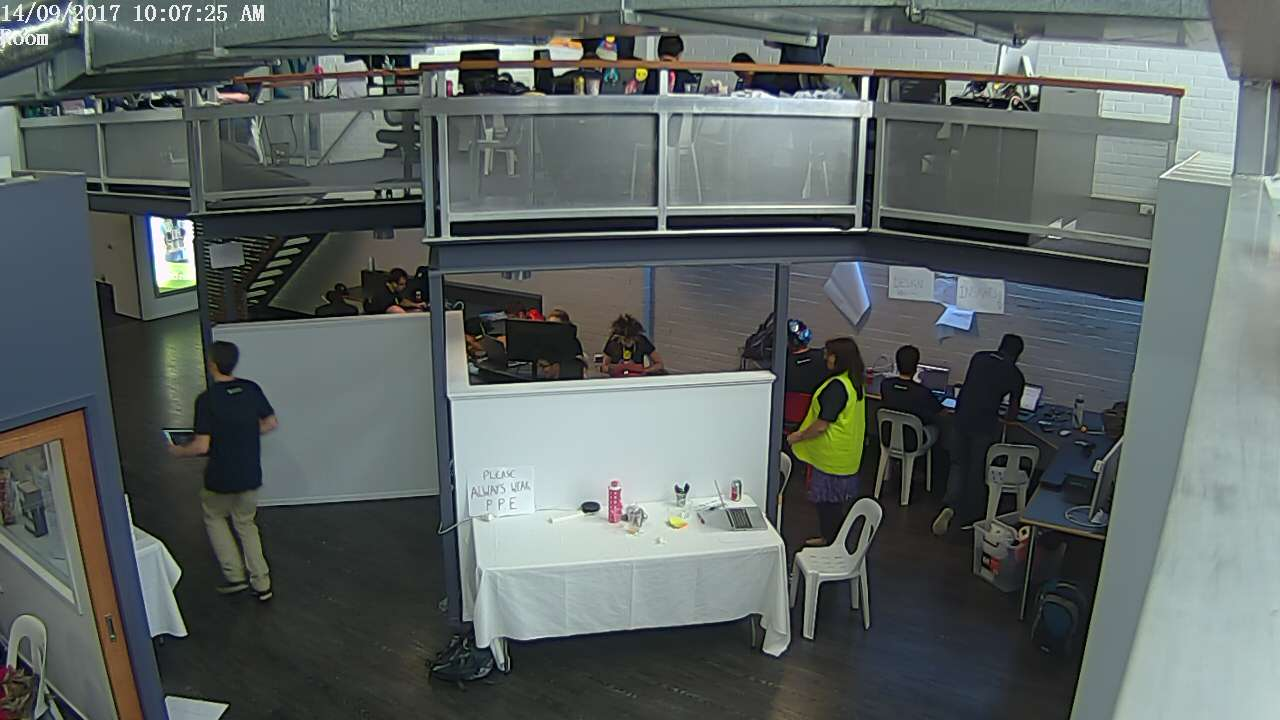bad: (191, 340, 287, 605)
